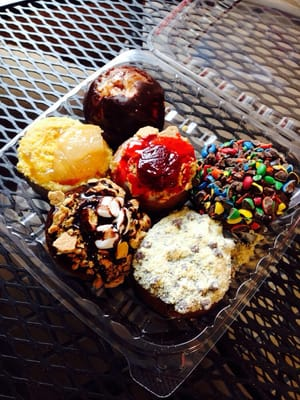salad: (43, 177, 153, 290)
